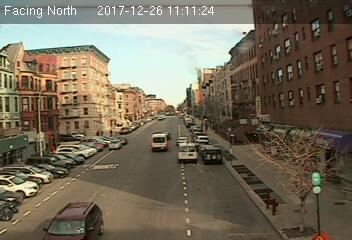car: (41, 202, 105, 240), (203, 145, 222, 163), (108, 139, 121, 150), (116, 136, 127, 143)
truck: (178, 142, 198, 163), (151, 135, 169, 150)
